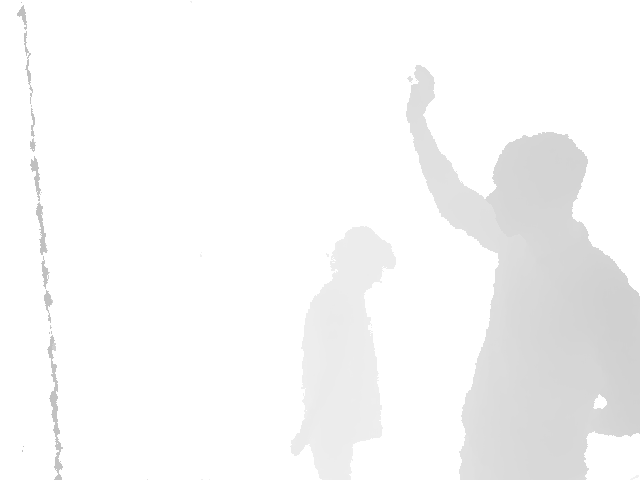hand: (403, 63, 435, 124)
head: (485, 132, 588, 235), (331, 224, 397, 282)
person: (403, 63, 640, 480), (290, 223, 397, 480)
